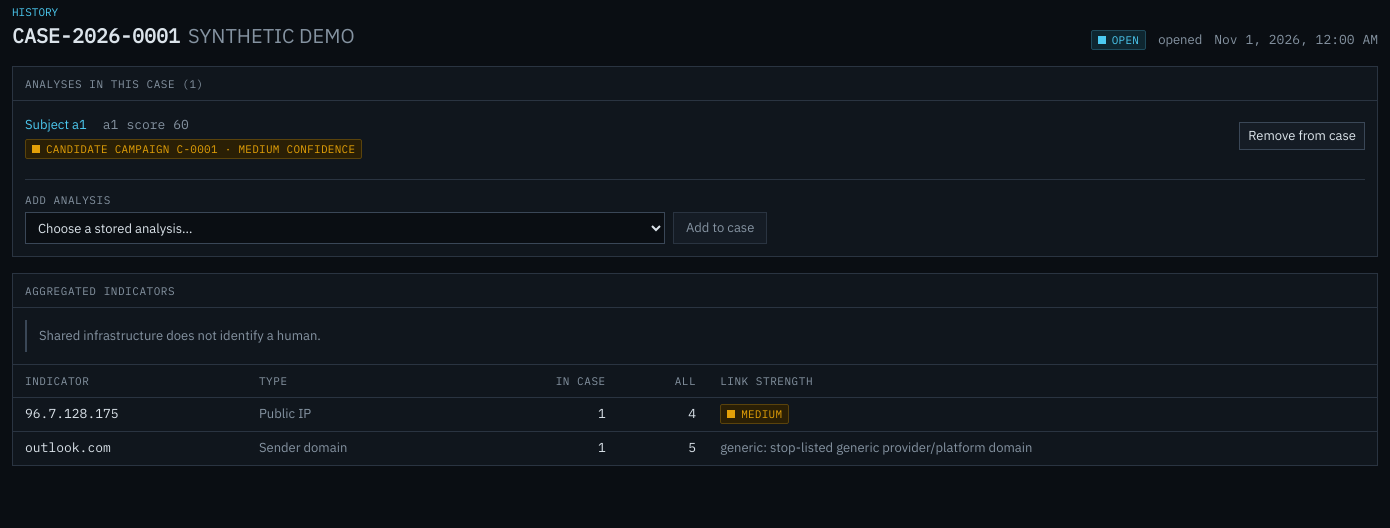
Test: Case page › analyst adds and removes analyses; aggregated indicators flag generic values
Expected: the number of list items with test id "case-member" is 1, left=25, top=113, right=1365, bottom=167
Expected: the row with test id "case-indicator" shows "generic: stop-listed", left=13, top=431, right=1377, bottom=465
Select "a2 · S2" in the dropdown labelled "Add analysis". click: x=345, y=228
box: left=25, top=212, right=665, bottom=244
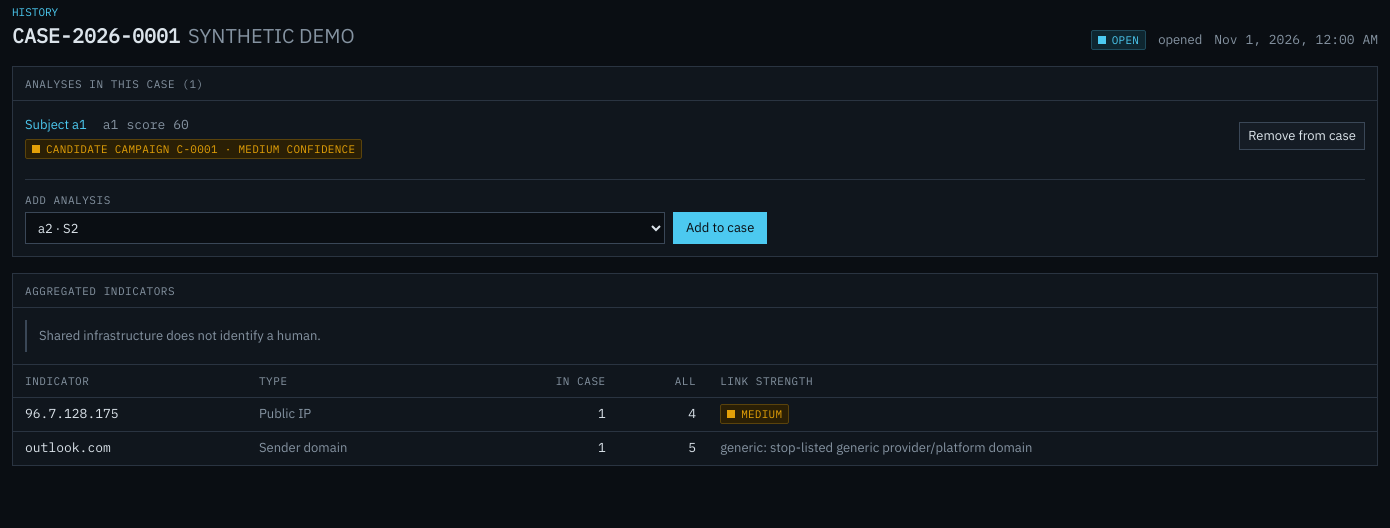
Click the button "Add to case". click: x=720, y=228
box: left=673, top=212, right=767, bottom=244
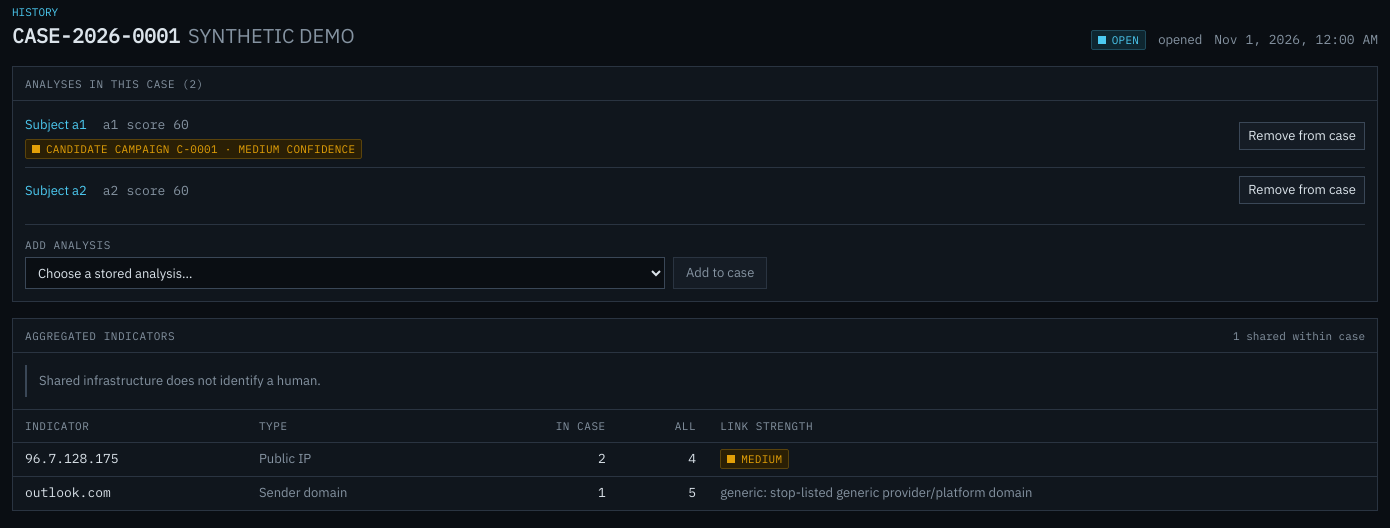
Now the number of list items with test id "case-member" is 2, box left=25, top=113, right=1365, bottom=167; left=25, top=167, right=1365, bottom=212
Click the button "Remove from case" in the row of "Subject a1". click: x=1302, y=136
box: left=1239, top=122, right=1365, bottom=150
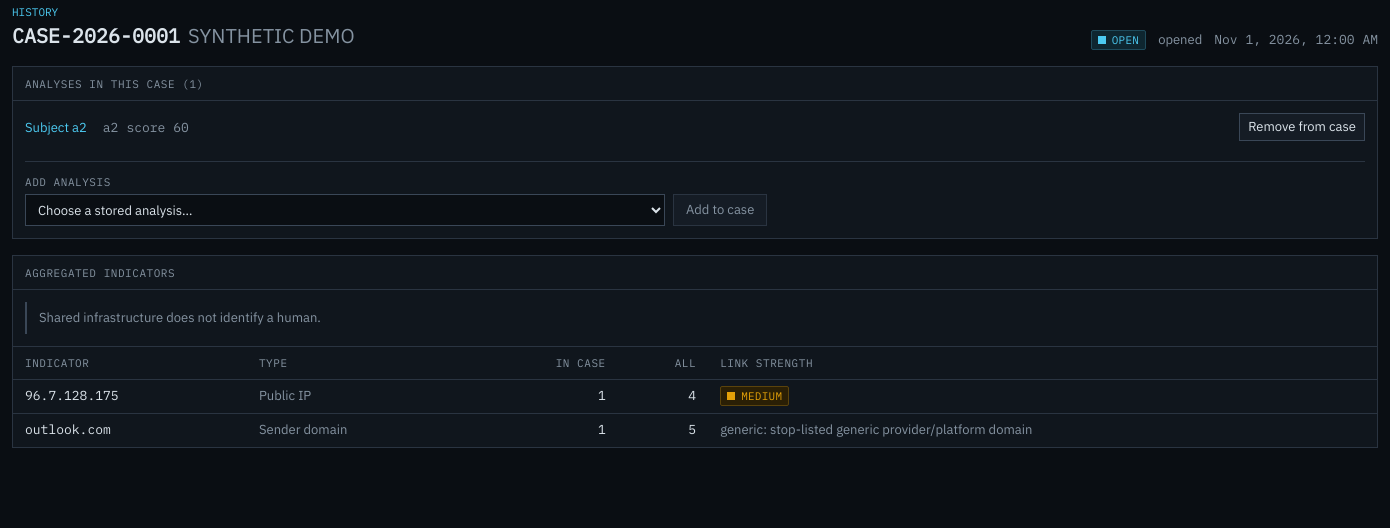
Now the number of list items with test id "case-member" is 1, box left=25, top=113, right=1365, bottom=149
